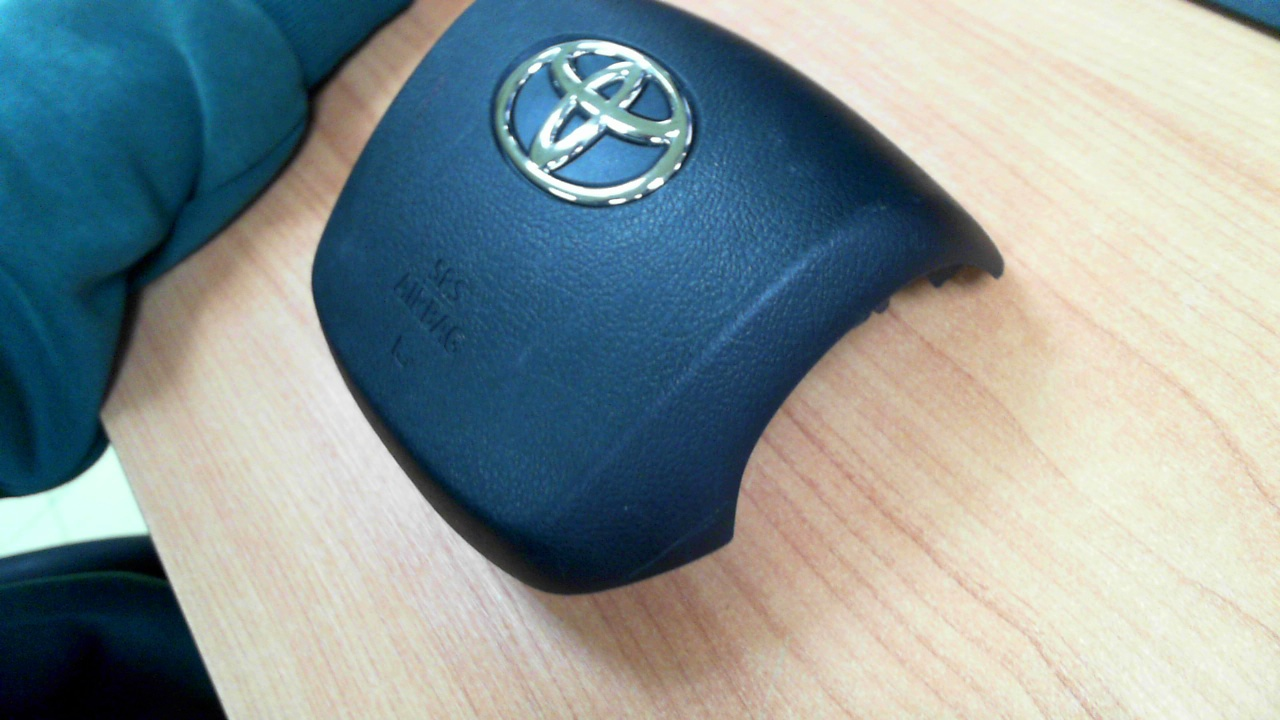Airbag: (310, 0, 1005, 594)
Toyota: (495, 39, 693, 205)
